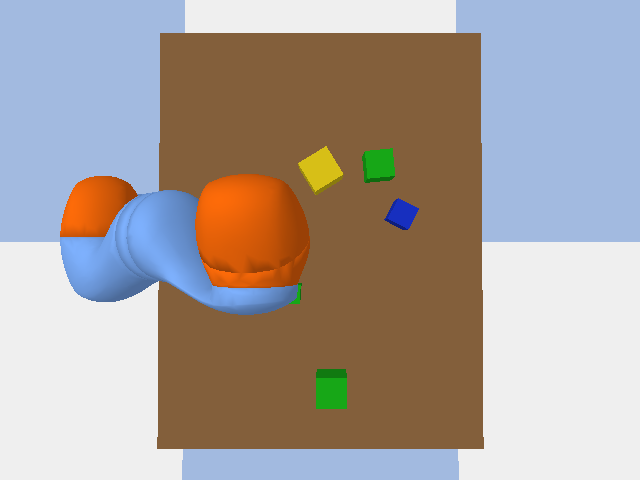blue_obj: (384, 198, 418, 229)
green_obj: (316, 369, 346, 408), (362, 148, 394, 182), (289, 283, 301, 303)
yellow_obj: (298, 146, 343, 194)
